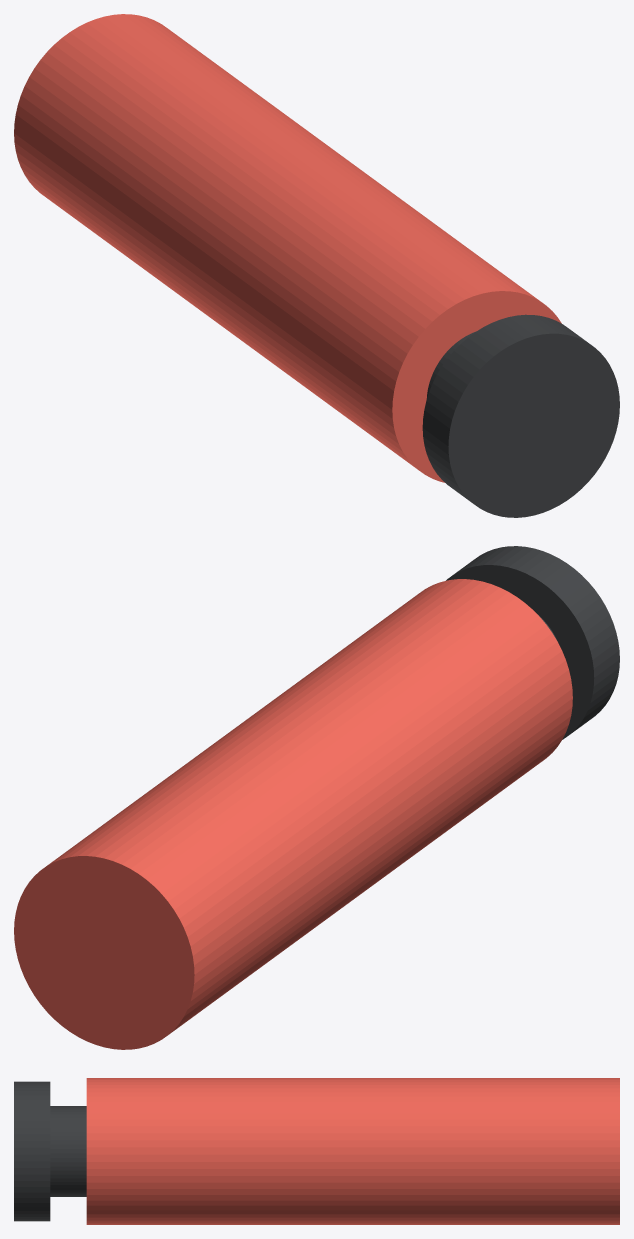
3 renders of one model, top to bottom at view 1: azimuth 30°, elevation 25°; view 2: azimuth 150°, elevation 25°; view 3: azimuth 270°, elevation 25°, orthographic. The views are drawn at different scales.
Parts seen in each view (by area): view 1: sx25_body_0, sx25_body_2, sx25_body_3; view 2: sx25_body_0, sx25_body_2, sx25_body_3; view 3: sx25_body_0, sx25_body_2, sx25_body_1, sx25_body_3.
Part boxes in pixels (x1=…): sx25_body_0: x1=14, y1=14, x2=561, y2=482; sx25_body_2: x1=422, y1=314, x2=619, y2=517; sx25_body_3: x1=14, y1=14, x2=176, y2=204; sx25_body_0: x1=14, y1=579, x2=572, y2=1049; sx25_body_2: x1=446, y1=546, x2=619, y2=739; sx25_body_3: x1=14, y1=843, x2=211, y2=1049; sx25_body_0: x1=86, y1=1078, x2=619, y2=1224; sx25_body_2: x1=14, y1=1081, x2=50, y2=1221; sx25_body_1: x1=50, y1=1106, x2=86, y2=1196; sx25_body_3: x1=595, y1=1078, x2=619, y2=1224.
Size of the model in its own units: 0.032 by 0.032 by 0.132.
